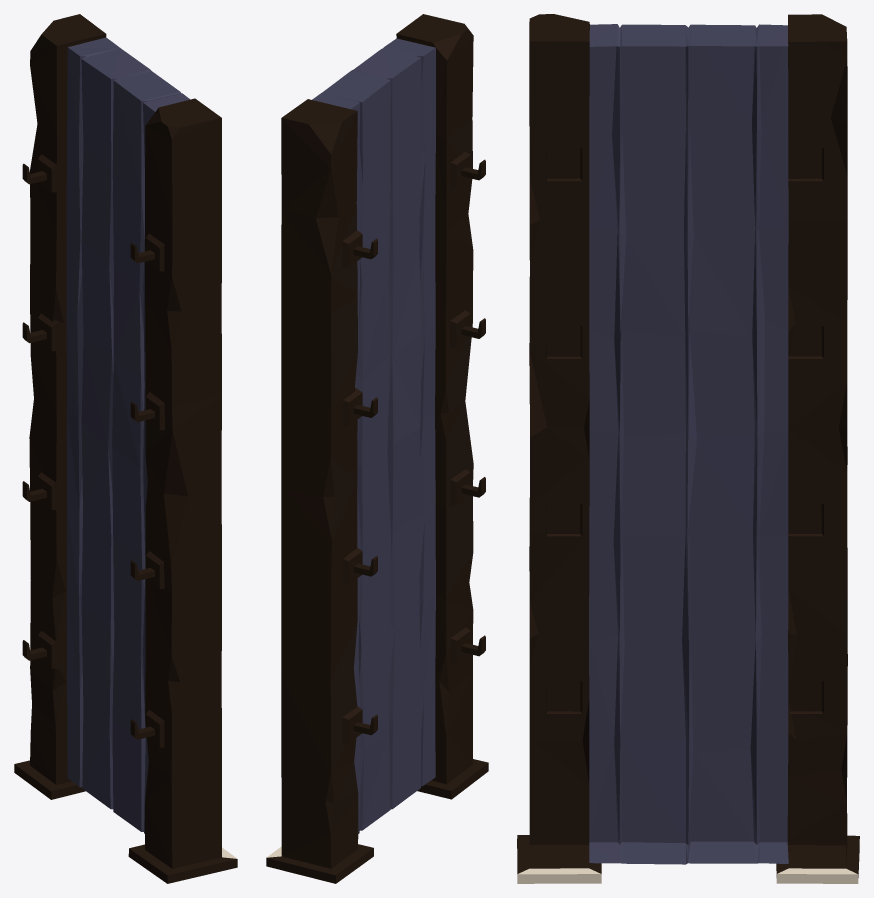
File: SFFA_Bow_Stand.fbx
The picture shows the model from 3 angles, left to right: view 1: azimuth 30°, elevation 25°; view 2: azimuth 150°, elevation 25°; view 3: azimuth 270°, elevation 25°; orthographic projection. The views are drawn at different scales.
Visible parts, largest first — view 1: SFFA_Bow_Stand; view 2: SFFA_Bow_Stand; view 3: SFFA_Bow_Stand.
Boxes of the visible parts, x1=… form: SFFA_Bow_Stand: x1=14, y1=14, x2=237, y2=883; SFFA_Bow_Stand: x1=266, y1=14, x2=488, y2=883; SFFA_Bow_Stand: x1=517, y1=14, x2=859, y2=883.
Bounding box in the file's own units: 44 × 369 × 137.
